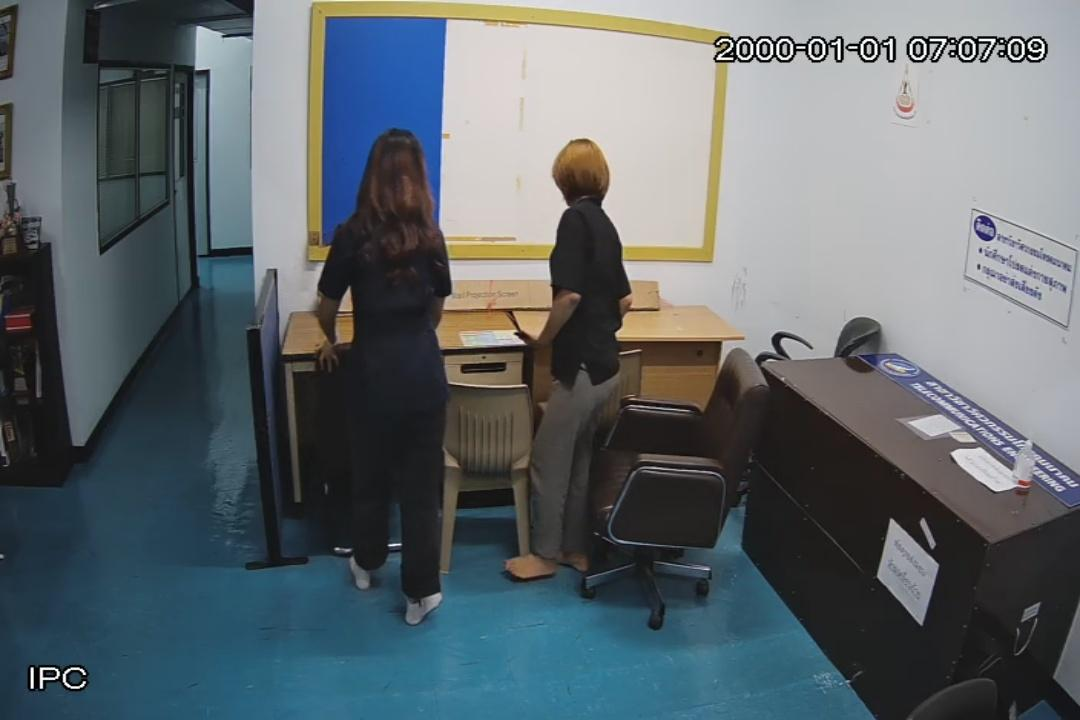normal: (300, 112, 462, 632), (514, 120, 650, 618)
